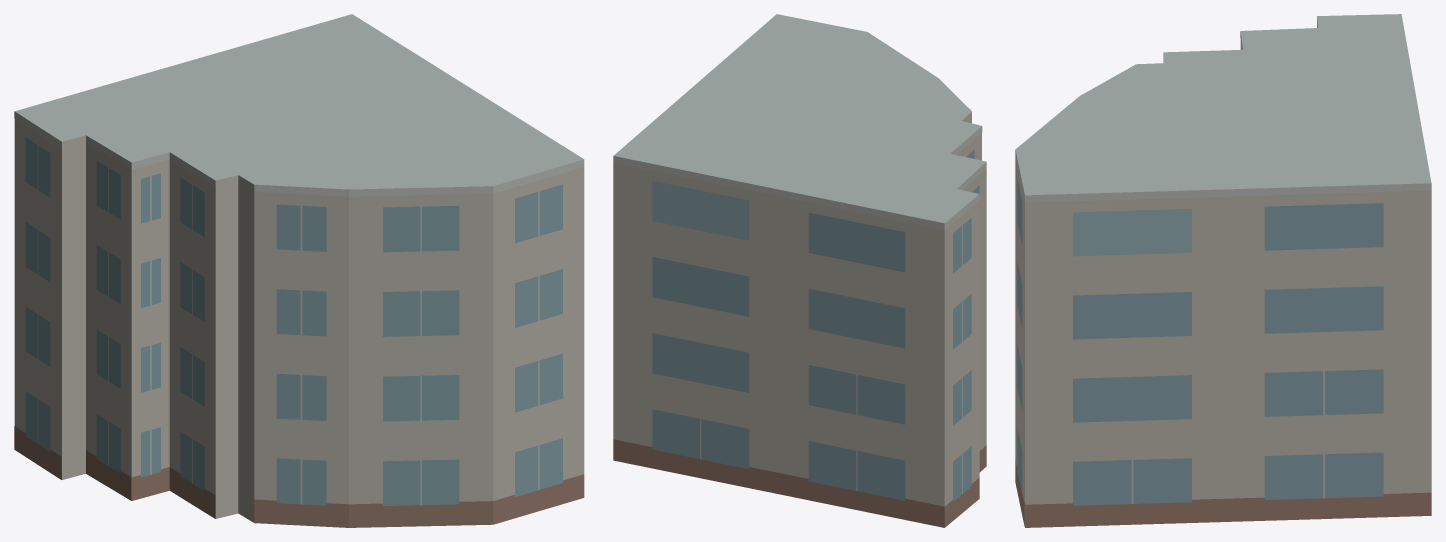
The model's file is survey-upis-32699416.glb.
3 renders of one model, left to right at view 1: azimuth 30°, elevation 25°; view 2: azimuth 150°, elevation 25°; view 3: azimuth 270°, elevation 25°, orthographic. The views are drawn at different scales.
Visible parts, largest first — view 1: survey-upis-32699416.tmp; view 2: survey-upis-32699416.tmp; view 3: survey-upis-32699416.tmp.
Boxes of the visible parts, bbox=[...] form: survey-upis-32699416.tmp: bbox=[14, 14, 584, 527]; survey-upis-32699416.tmp: bbox=[613, 14, 986, 527]; survey-upis-32699416.tmp: bbox=[1015, 14, 1431, 527].
Size of the model in its own units: 13.11 by 11.2 by 12.71.
